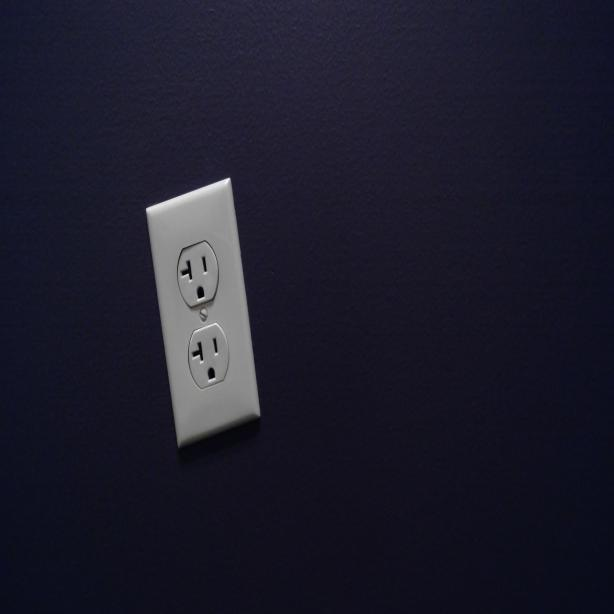typeb: (187, 324, 228, 387), (177, 243, 218, 306)
